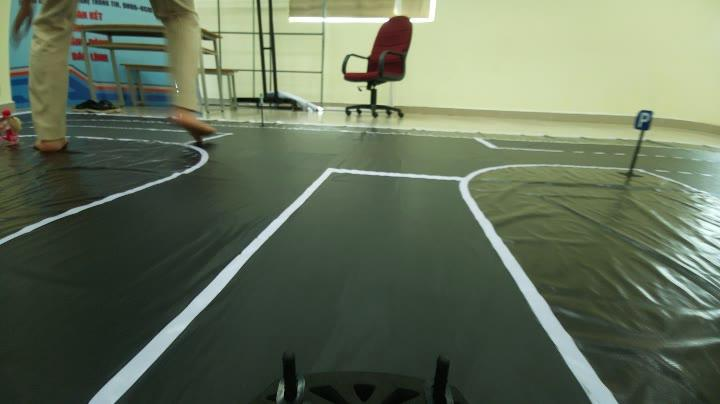parking: (635, 102, 658, 134)
